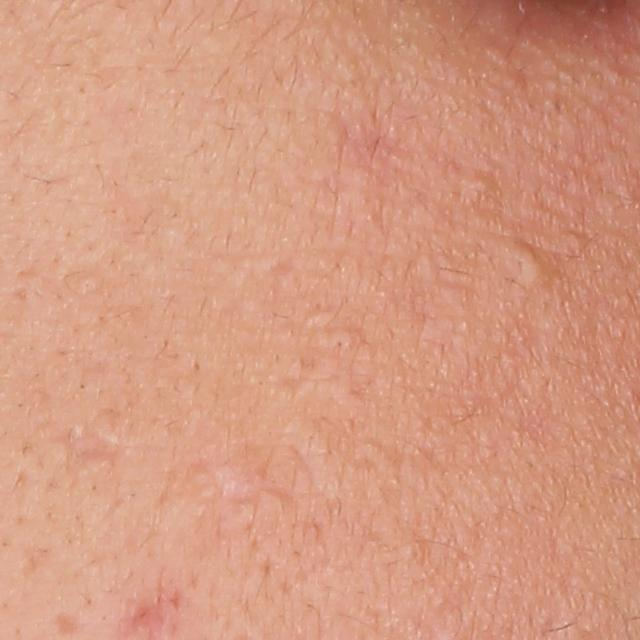atrophic_scar: (46, 425, 129, 477), (49, 606, 85, 639)
comedo: (504, 240, 544, 284), (327, 329, 353, 354), (472, 174, 496, 196)
